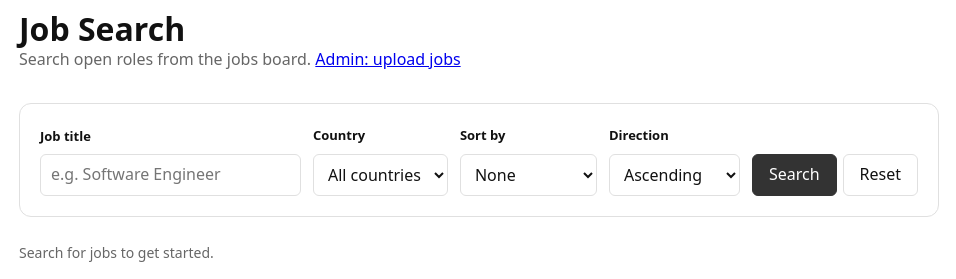
Scenario: App › shows "No jobs found." when the search returns no results
Click the button "Search" at coordinates (794, 175), box [752,154,836,196]
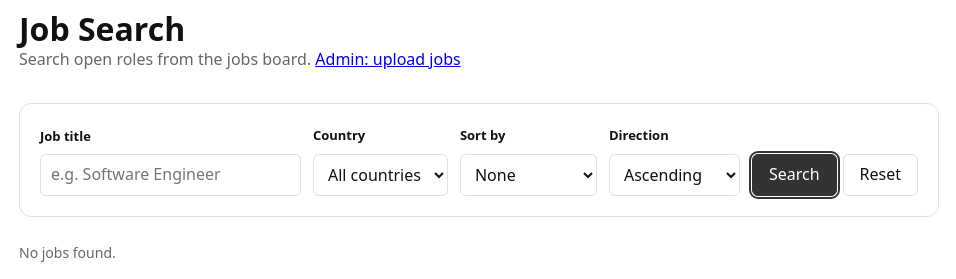
Result: the message reads "No jobs found." at [19,243,116,262]
